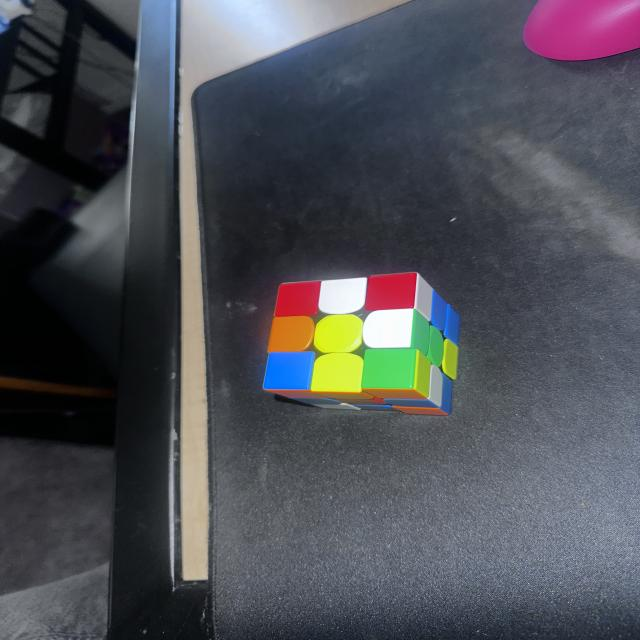sticker: (309, 352, 372, 401), (364, 308, 429, 354), (262, 351, 319, 399), (362, 272, 418, 314), (312, 314, 365, 354), (316, 277, 368, 316), (266, 315, 315, 354), (273, 280, 322, 318), (366, 349, 413, 388)
